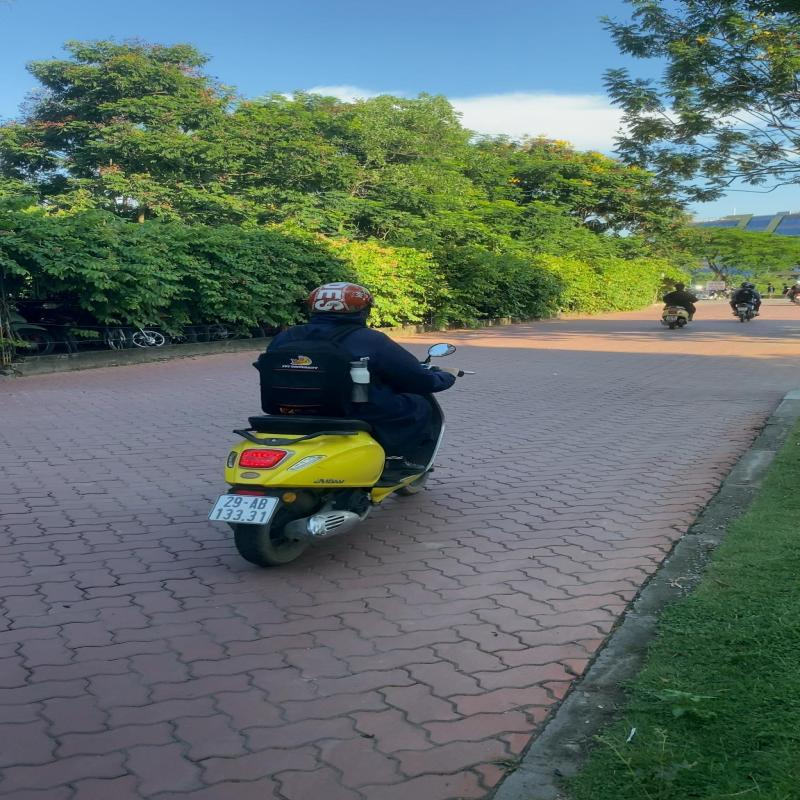helmet: (300, 282, 376, 320)
licenseplate: (208, 492, 281, 528), (665, 316, 678, 321)
motorcyclist: (202, 280, 480, 570), (658, 284, 700, 330)
nohelmet: (675, 284, 686, 290)
